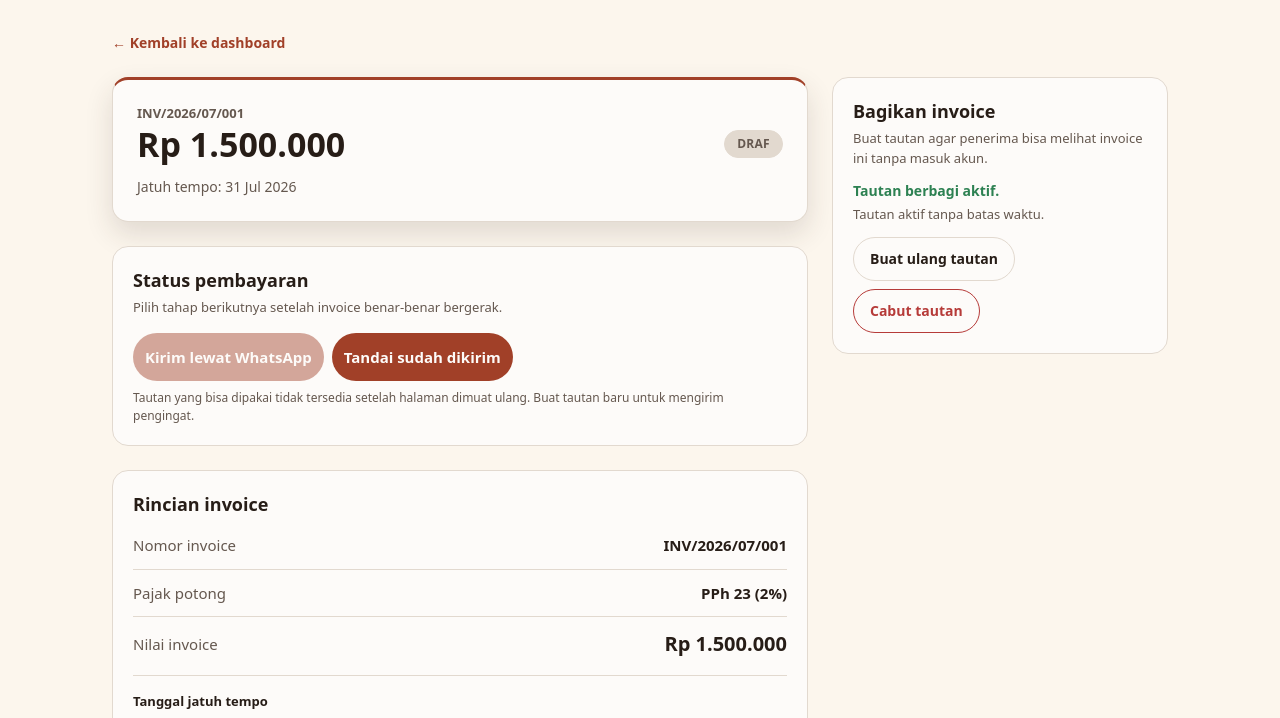
Test: InvoiceDetailClient › Bagikan invoice › requires explicit confirmation with destructive wording before revoking, then returns to inactive
Click the button "Cabut tautan". click: click(916, 310)
box: [853, 288, 980, 332]
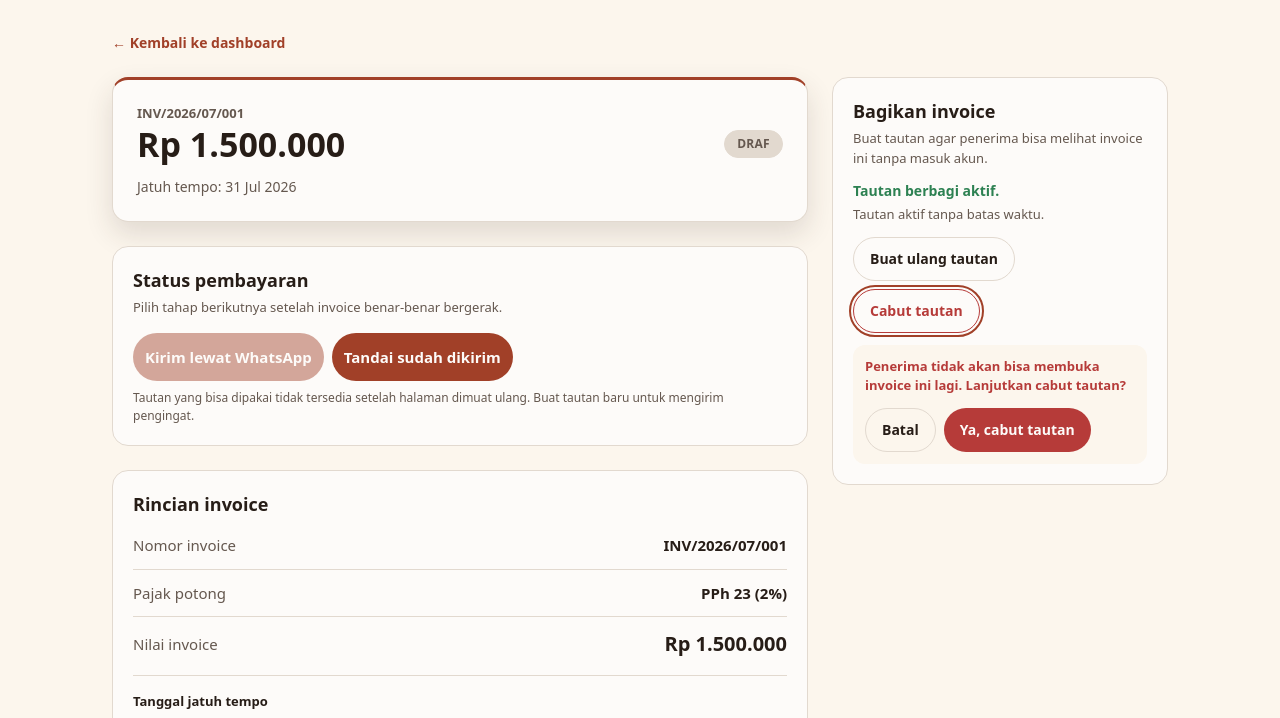
Now the text "Penerima tidak akan bisa membuka invoice ini lagi" is shown, box [865, 356, 1126, 394]
Click the button "Ya, cabut tautan". click: click(1017, 430)
box: [944, 408, 1091, 452]
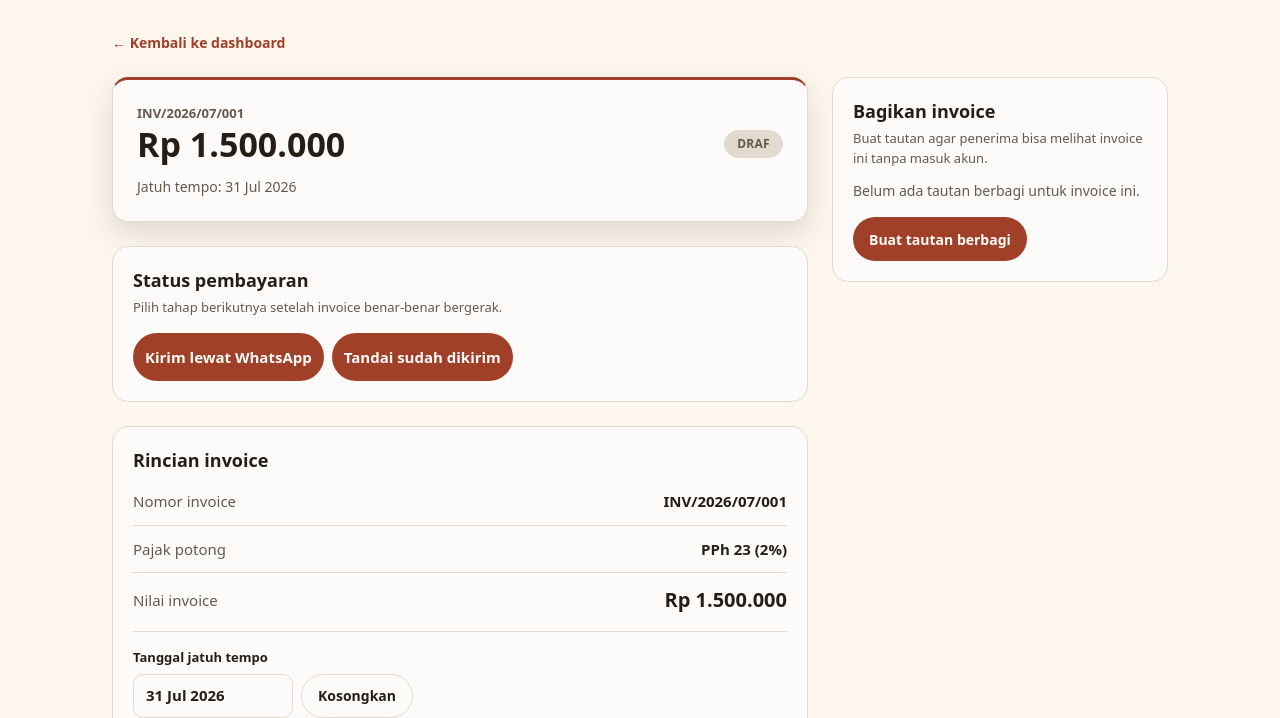
Now the text "Belum ada tautan berbagi untuk invoice ini." is shown, box [853, 180, 1147, 201]
